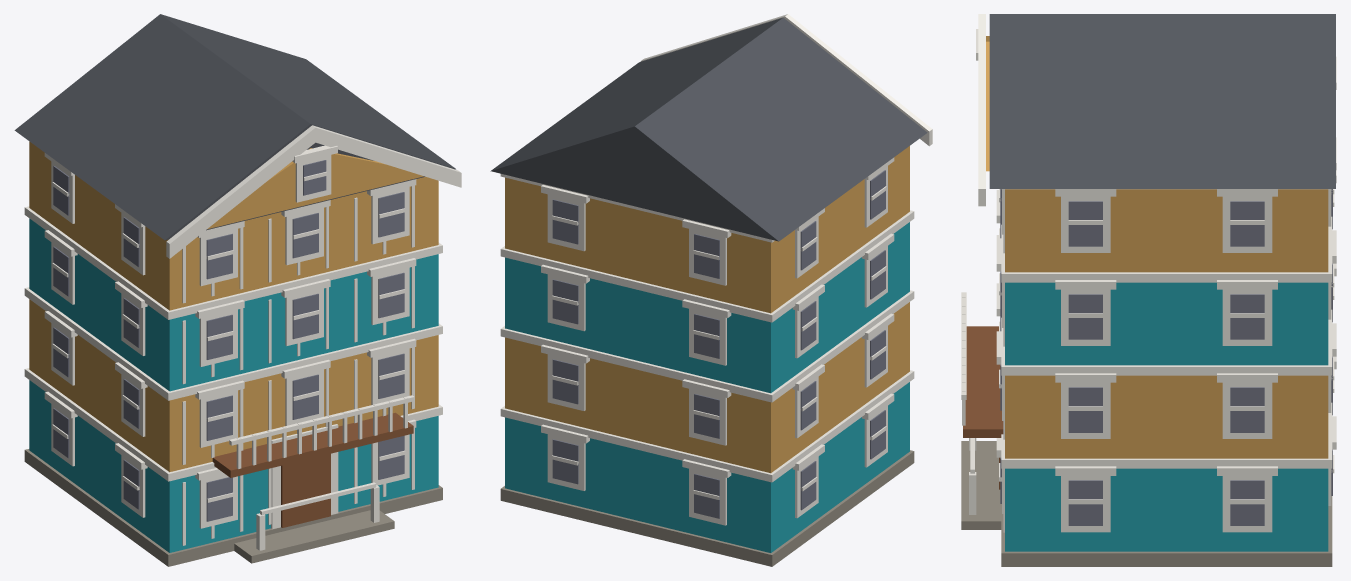
The model's file is house-1x1-4f-valparaiso-a.glb.
3 views of the same model, side by side, from view 1: azimuth 30°, elevation 25°; view 2: azimuth 150°, elevation 25°; view 3: azimuth 270°, elevation 25° (orthographic). The views are drawn at different scales.
Parts seen in each view (by area): view 1: house-1x1-4f-valparaiso-a; view 2: house-1x1-4f-valparaiso-a; view 3: house-1x1-4f-valparaiso-a.
Boxes of the visible parts, x1,y1,x2,y2 form: house-1x1-4f-valparaiso-a: (14, 14, 461, 566); house-1x1-4f-valparaiso-a: (490, 14, 932, 566); house-1x1-4f-valparaiso-a: (961, 14, 1336, 566).
Size of the model in its own units: 1.02 by 1.38 by 0.987.
Materials: 1 (1 with a texture image).
